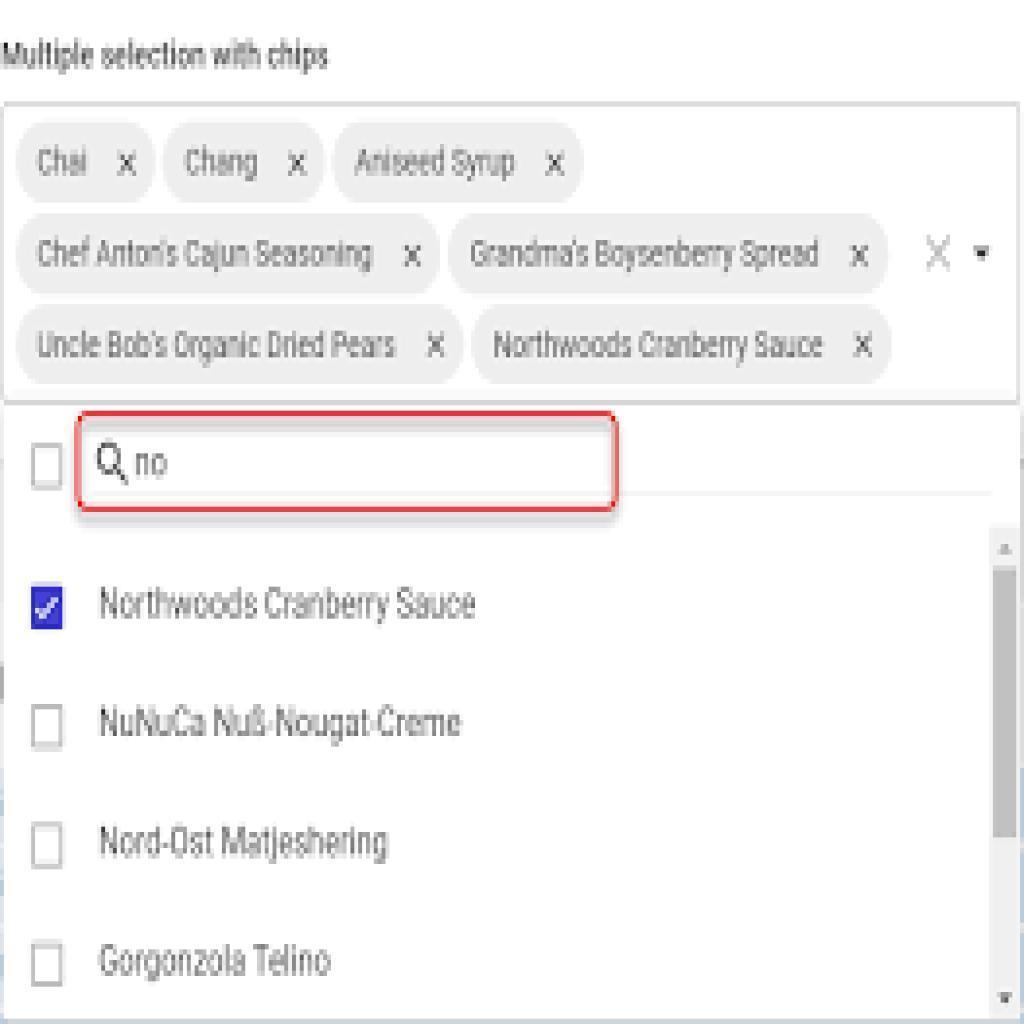button: (448, 211, 890, 295), (13, 206, 439, 292), (16, 300, 464, 381), (470, 301, 893, 384), (333, 121, 582, 203), (168, 122, 318, 205), (22, 121, 150, 199)
checkbox: (30, 443, 61, 491), (33, 584, 62, 630), (31, 704, 62, 747), (33, 825, 62, 870), (33, 943, 62, 987)
input: (86, 421, 614, 509)
